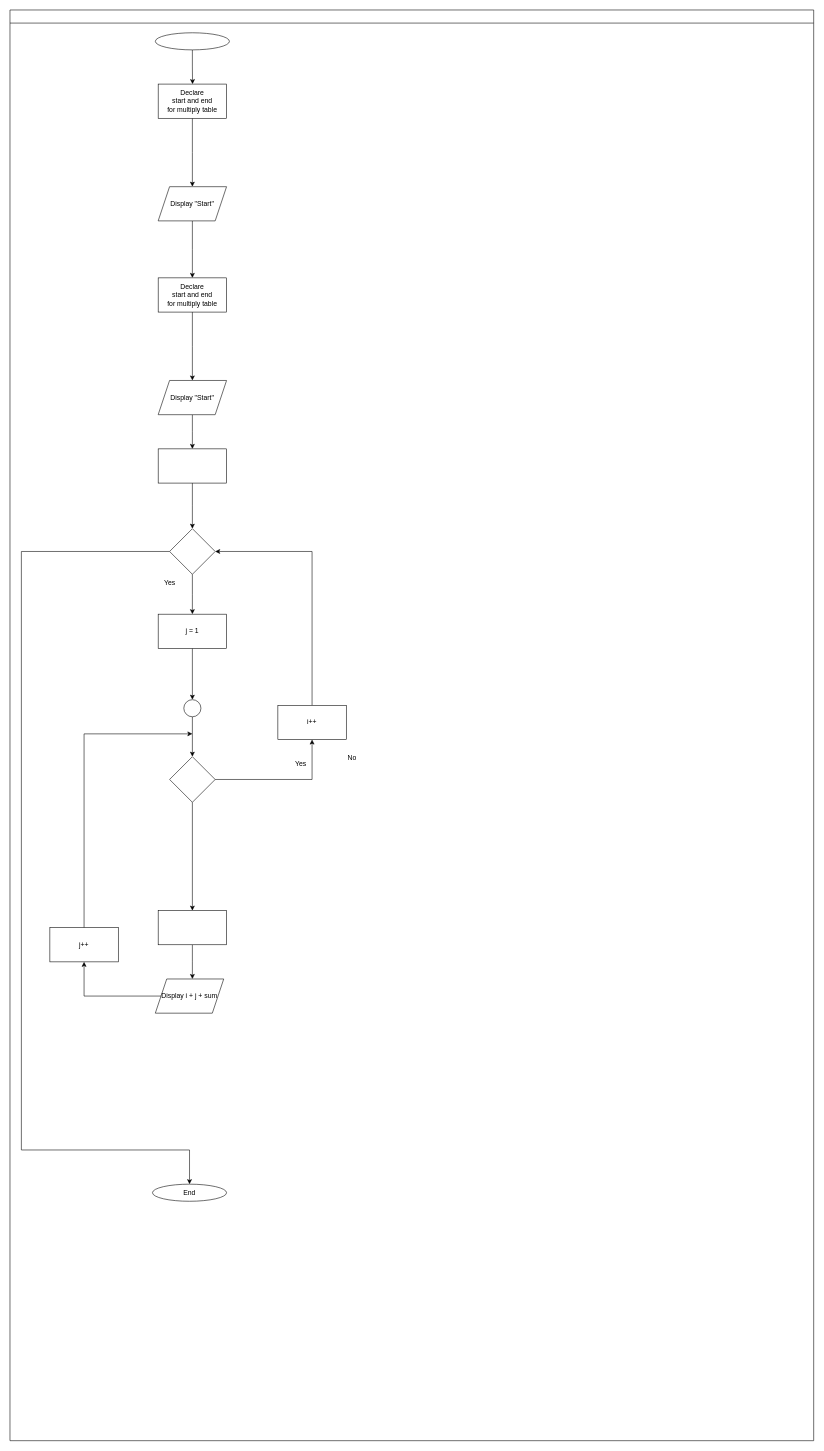
Some shapes in this 824 by 1451 pixel diagram are drawn without their labels. The shapes that lost their labels are listed below. From the top down, each one's box as (x1, y1, x2, y2) in pixels, then its label:
(155, 32, 229, 50): Start
(158, 448, 227, 483): i = start
(169, 528, 215, 574): i <= end
(169, 756, 215, 802): j <= 9
(158, 910, 227, 945): sum = i * j
